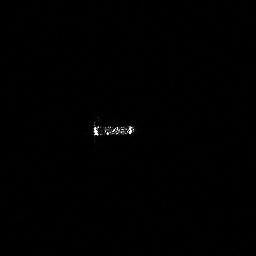ship: (90, 122, 137, 138)
